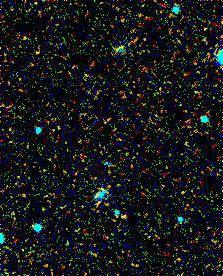star: (111, 199, 141, 229)
